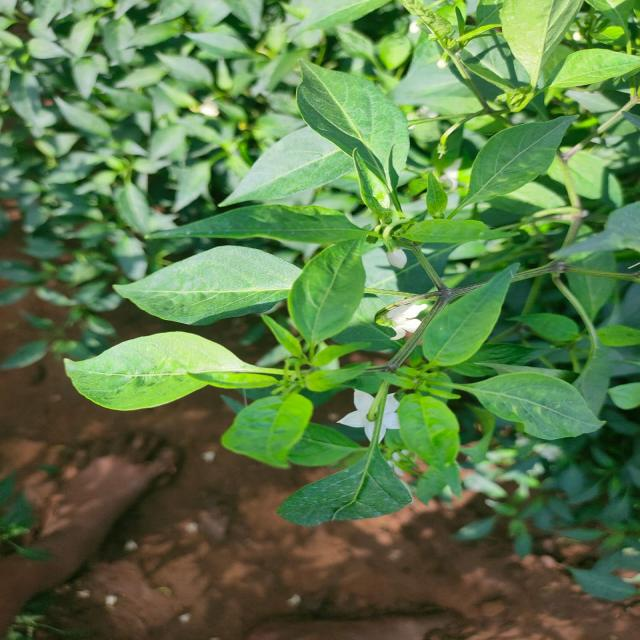Mosaic_virus: (82, 15, 640, 501)
